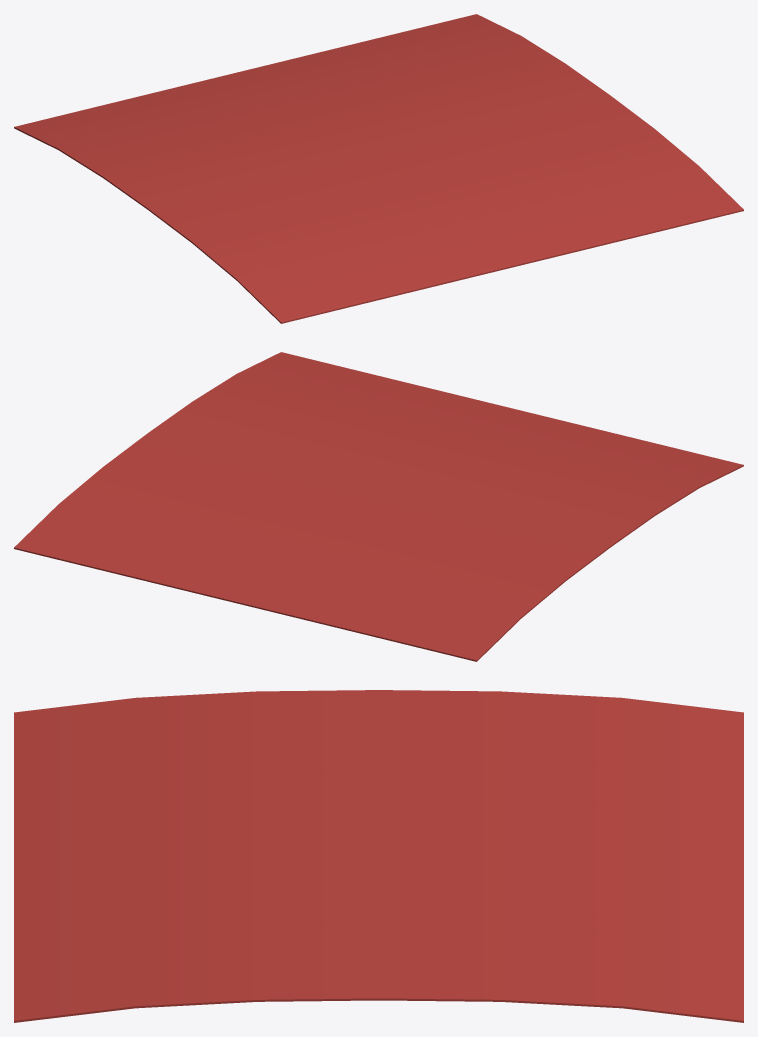
The model's file is steel_lod1.glb.
The picture shows the model from 3 angles, top to bottom: view 1: azimuth 30°, elevation 25°; view 2: azimuth 150°, elevation 25°; view 3: azimuth 270°, elevation 25°; orthographic projection. The views are drawn at different scales.
Visible parts, largest first — view 1: steel_lod1; view 2: steel_lod1; view 3: steel_lod1.
Boxes of the visible parts, left/top/right/bottom form: steel_lod1: left=14, top=14, right=743, bottom=323; steel_lod1: left=14, top=352, right=743, bottom=661; steel_lod1: left=14, top=690, right=743, bottom=1022.
Size of the model in its own units: 1 by 0.037 by 1.
